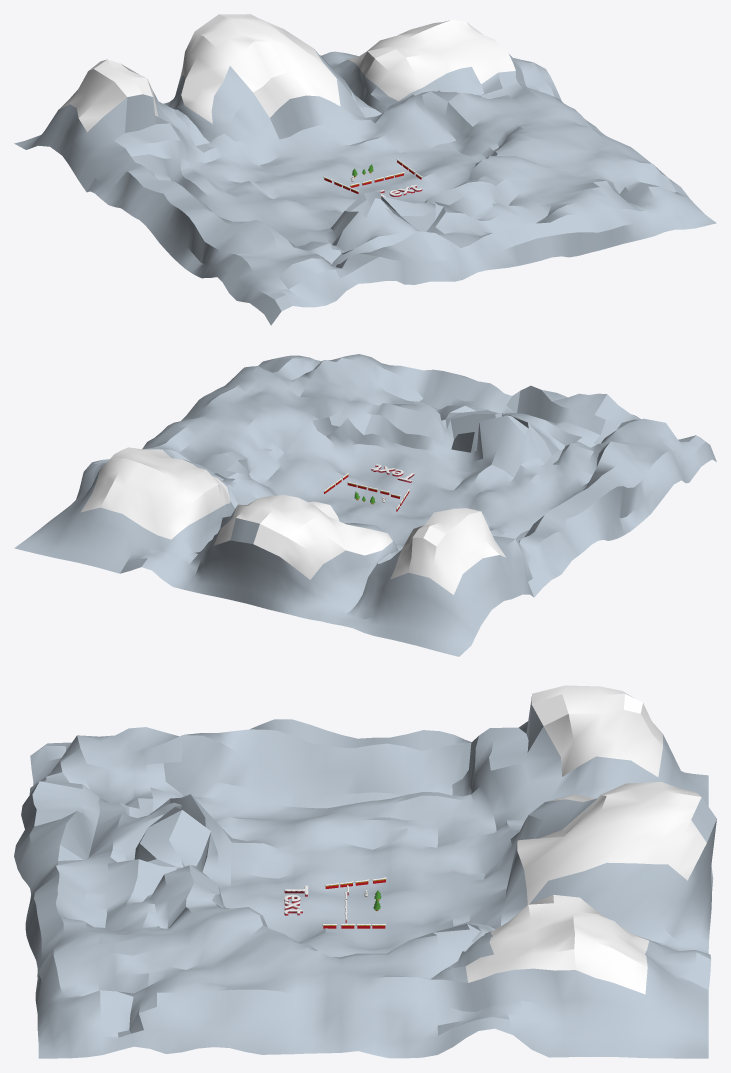
The model's file is christmas-scene.glb.
3 views of the same model, one above another, from view 1: azimuth 30°, elevation 25°; view 2: azimuth 150°, elevation 25°; view 3: azimuth 270°, elevation 25° (orthographic). The views are drawn at different scales.
Parts seen in each view (by area): view 1: Terrain; view 2: Terrain; view 3: Terrain.
Part boxes in pixels (<box>): Terrain: <box>14,14,716,325</box>; Terrain: <box>14,354,716,656</box>; Terrain: <box>14,685,716,1058</box>.
Bounding box in the file's own units: 101 × 19.52 × 103.
